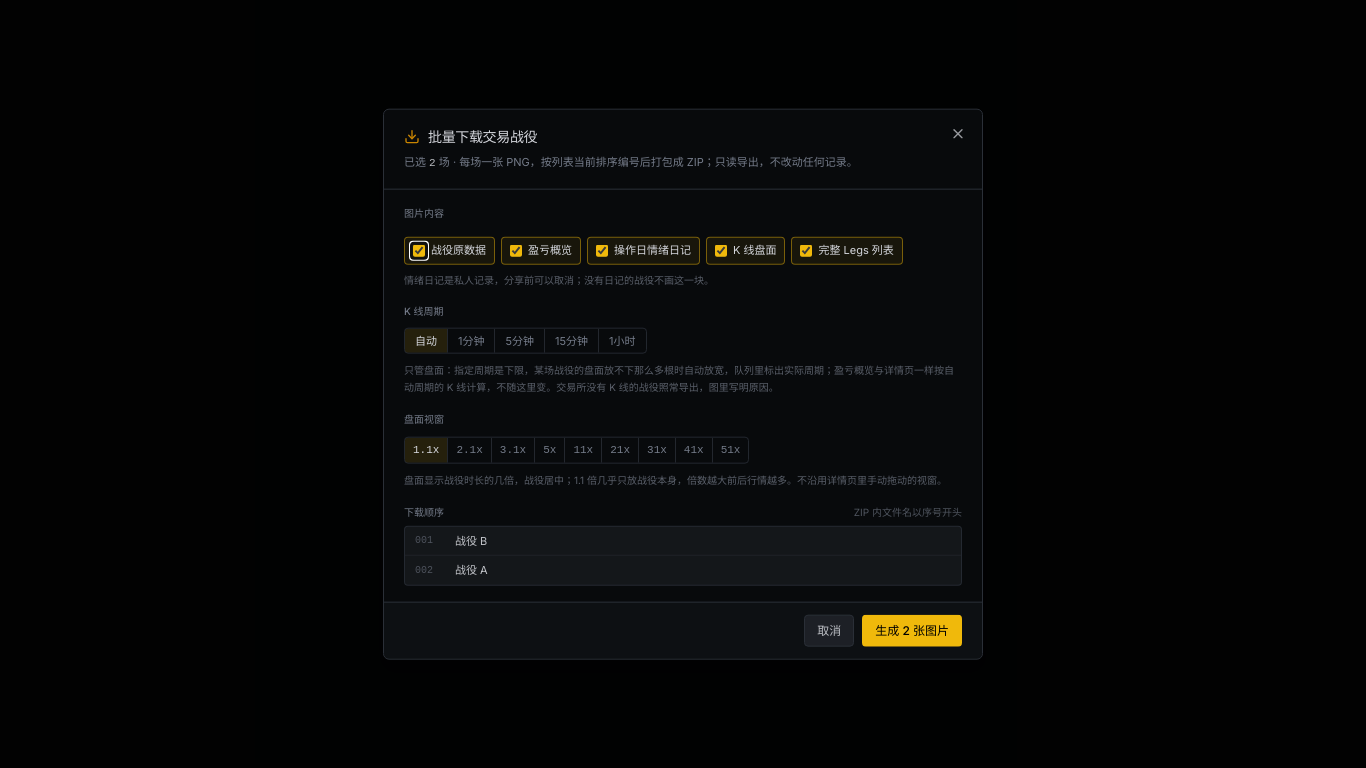
Test: 批量下载队列 › 指定周期在某场盘面上放不下而放宽时，逐行标出实际周期，进度区报场数；自动档不标
Step 1. Click the radio button labelled "1分钟" → (471, 341), box [447,328,494,353]
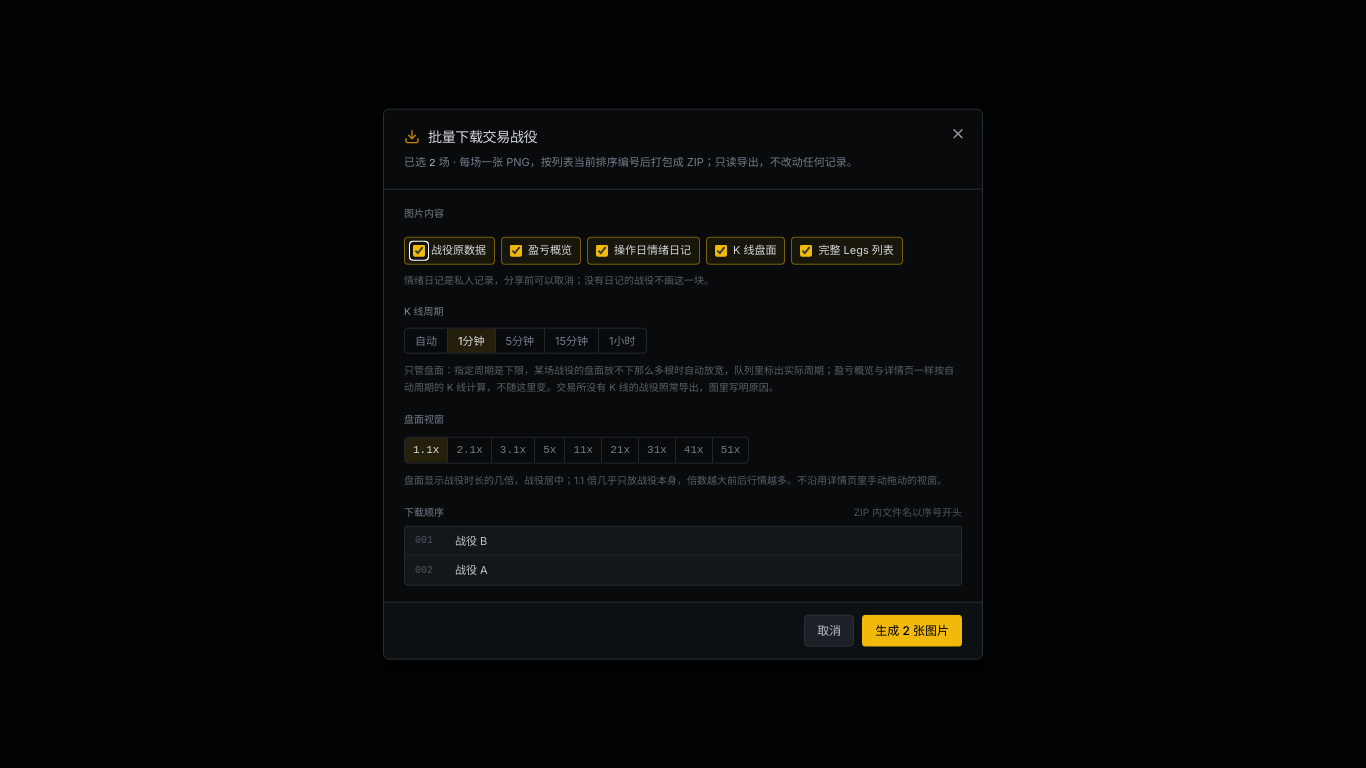
Step 2. Click the button "生成 2 张图片" → (912, 630), box [862,614,962,646]
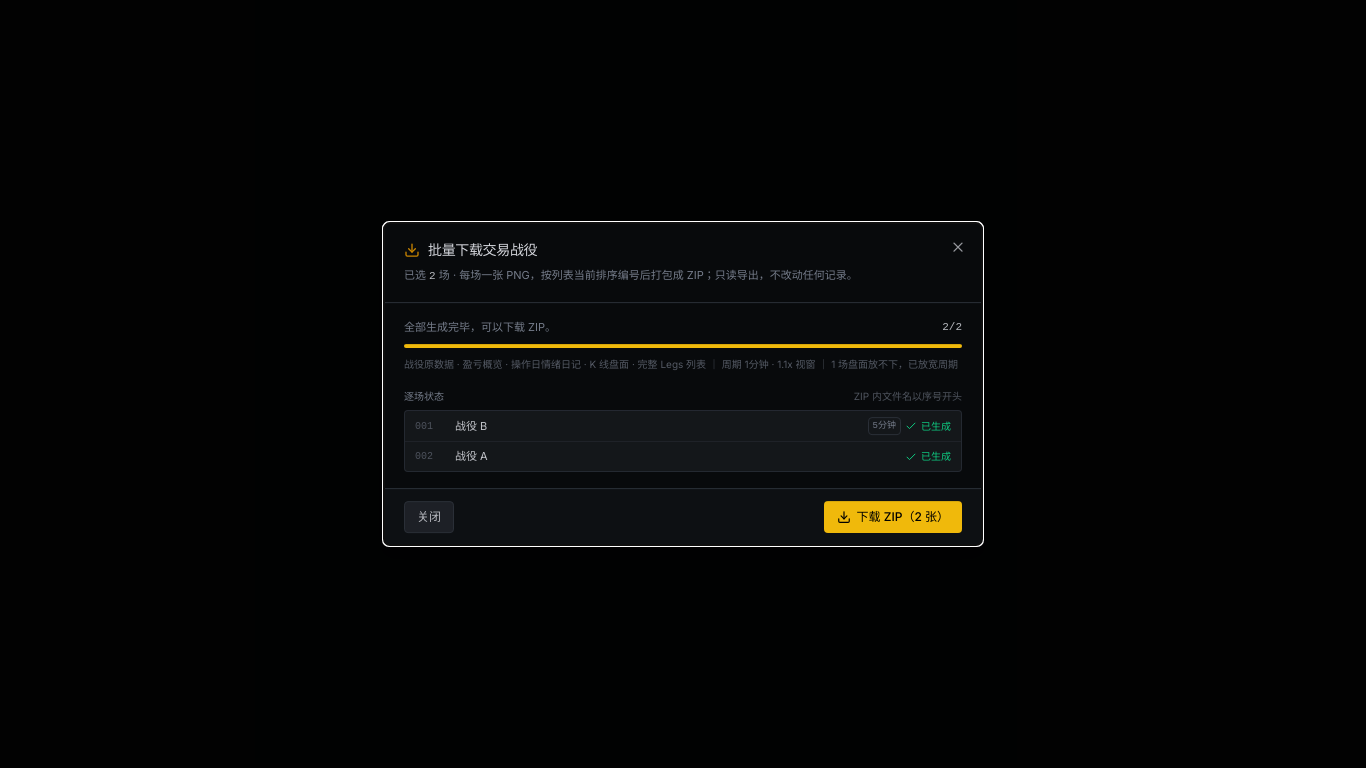
Now the element with test id "campaign-batch-progress" shows "周期 1分钟 · 1.1x 视窗 ｜ 1 场盘面放不下，已放宽周期", box [404,319,962,373]
